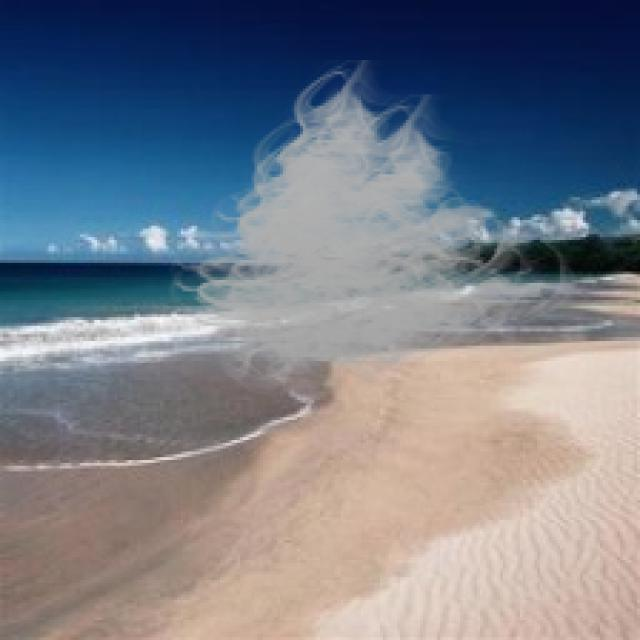smoke: (157, 60, 583, 403)
